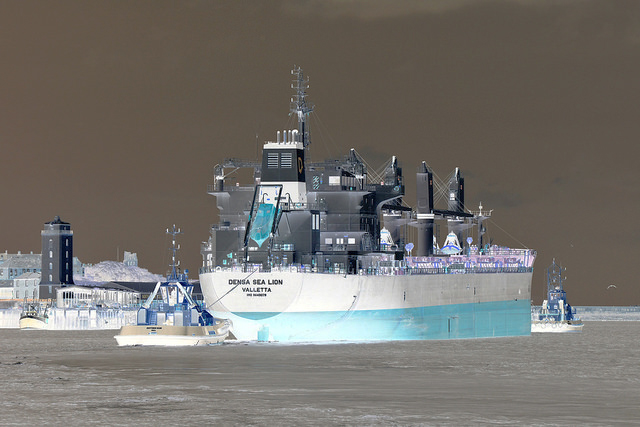boat: (17, 295, 49, 330)
bulk carrier: (204, 67, 534, 339)
tug_boat: (119, 224, 226, 347), (533, 254, 587, 330)
